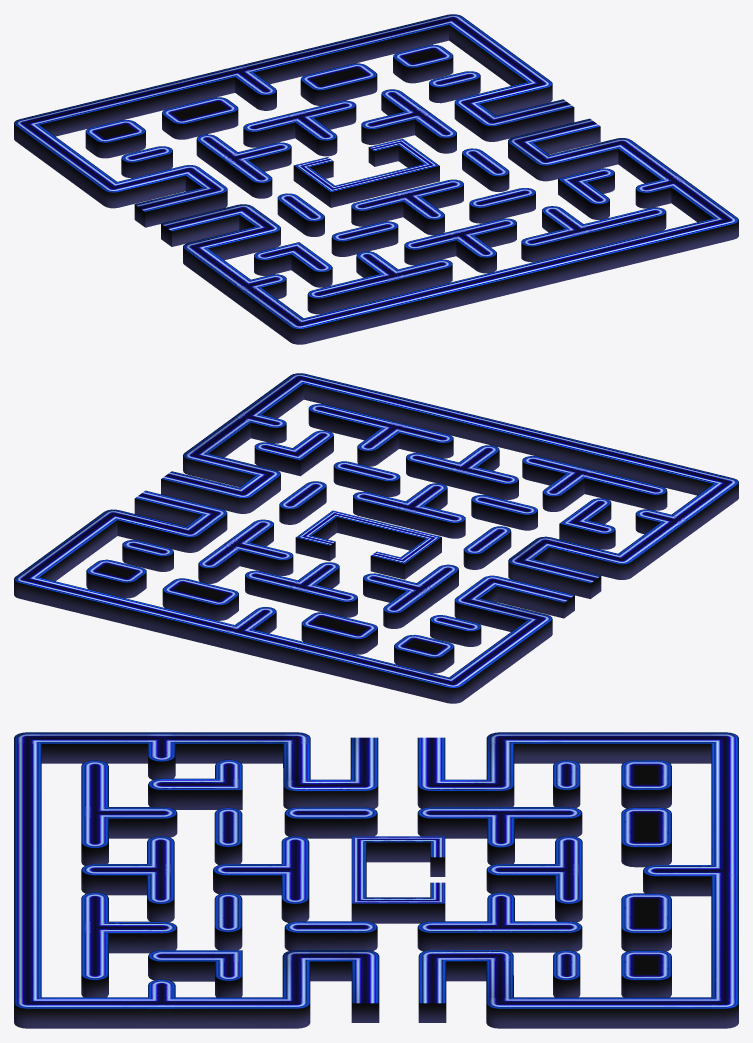
The model's file is maze.FBX.
The picture shows the model from 3 angles, top to bottom: view 1: azimuth 30°, elevation 25°; view 2: azimuth 150°, elevation 25°; view 3: azimuth 270°, elevation 25°; orthographic projection. The views are drawn at different scales.
Parts seen in each view (by area): view 1: PacMan level 1; view 2: PacMan level 1; view 3: PacMan level 1.
Part boxes in pixels (bbox=[...]): PacMan level 1: bbox=[14, 14, 738, 344]; PacMan level 1: bbox=[14, 373, 738, 703]; PacMan level 1: bbox=[14, 732, 738, 1028].
Size of the model in its own units: 570 by 631 by 19.
2 materials, 2 textured.
